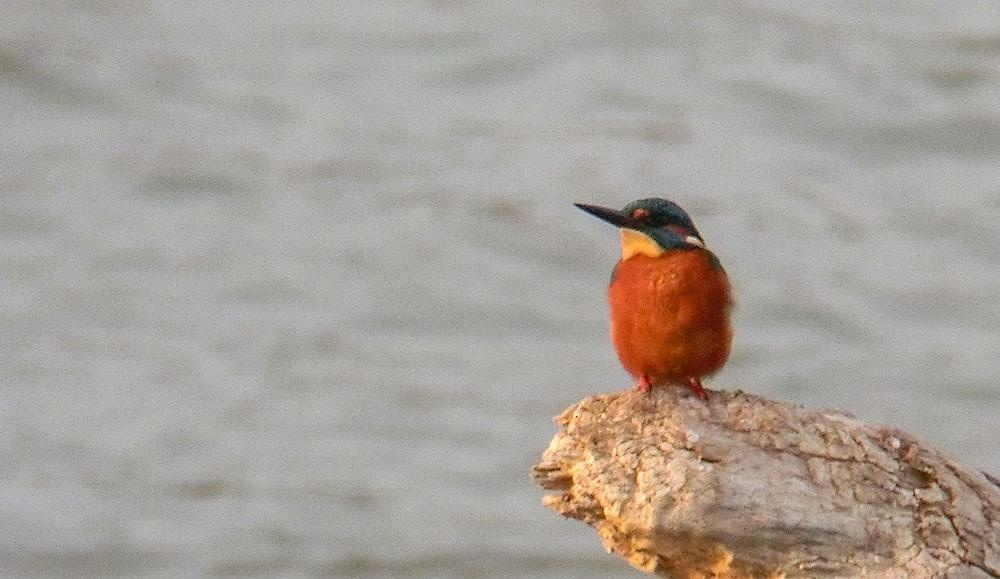kingfisher: (571, 178, 735, 419)
